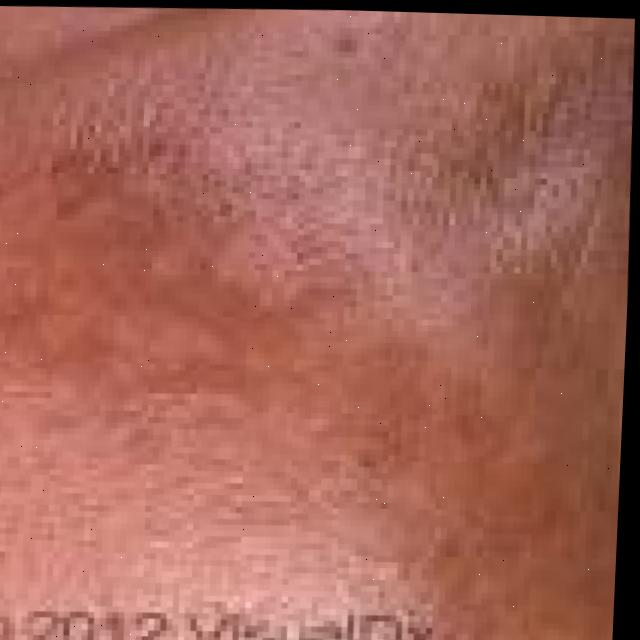Melasma: (57, 187, 400, 477)
